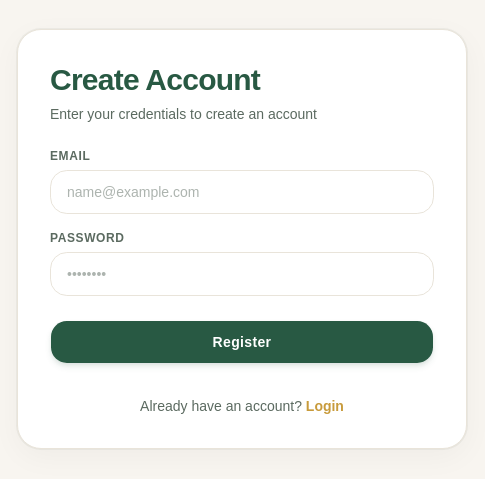
Test: Register Component › shows validation error for invalid email format
Type "invalid-email" into the field labelled "Email".
click(242, 192); type("invalid-email")  # box [50,170,434,214]
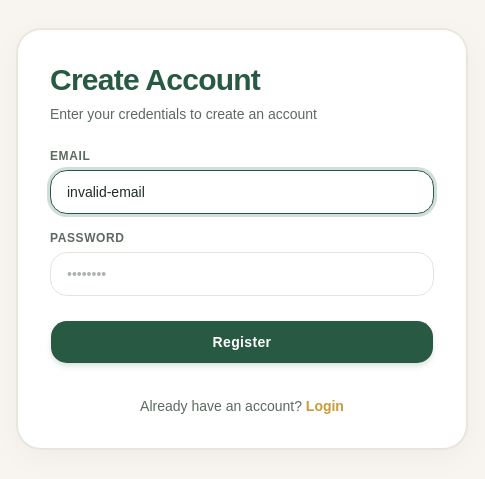
Type "password123" into the password field labelled "Password".
click(242, 274); type("password123")  # box [50,252,434,296]
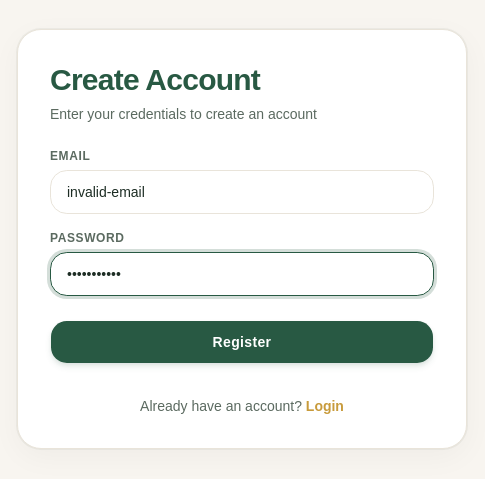
Click the button "Register".
click(242, 342)  # box [50,320,434,364]
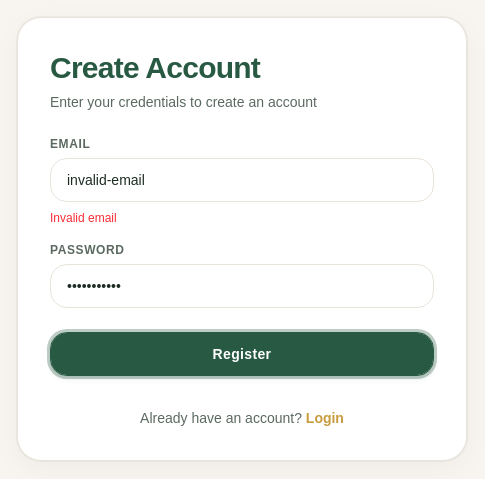
expect the text "Invalid email" is shown: met, box [50,211,117,225]
